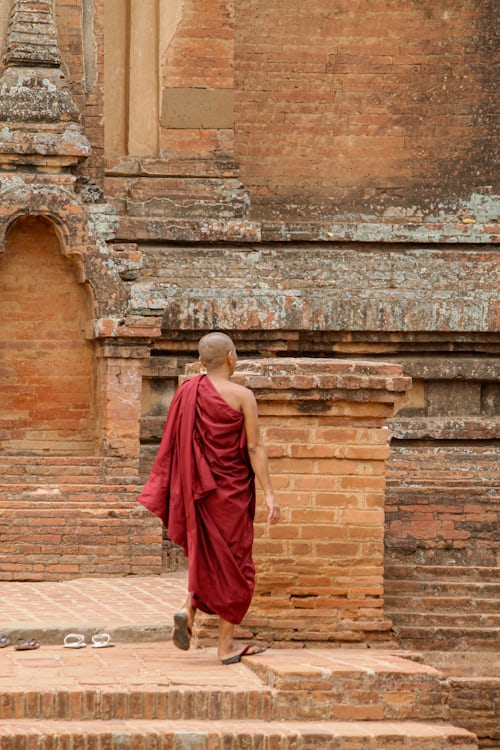Walking: (142, 322, 320, 671)
